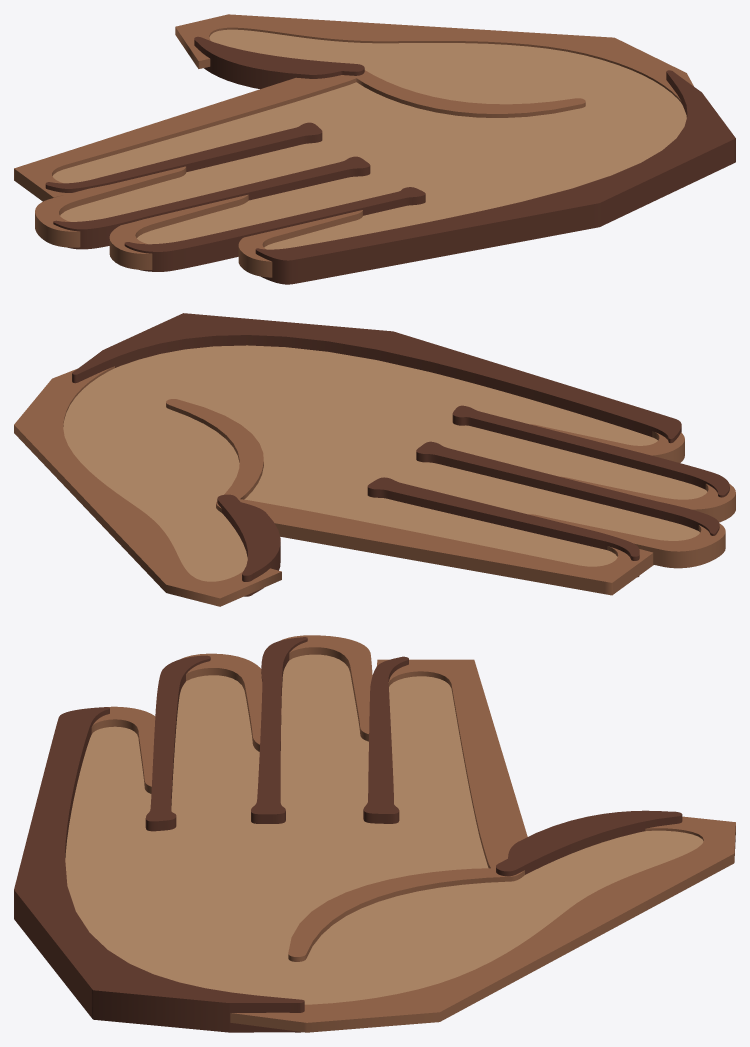
The model's file is emoji_u1faf2_1f3fd.glb.
3 views of the same model, one above another, from view 1: azimuth 30°, elevation 25°; view 2: azimuth 150°, elevation 25°; view 3: azimuth 270°, elevation 25° (orthographic). The views are drawn at different scales.
Parts seen in each view (by area): view 1: emoji_u1faf2_1f3fd; view 2: emoji_u1faf2_1f3fd; view 3: emoji_u1faf2_1f3fd.
Part boxes in pixels (box(x1,y1,x2,y2)): emoji_u1faf2_1f3fd: box(14, 14, 735, 284); emoji_u1faf2_1f3fd: box(14, 313, 735, 606); emoji_u1faf2_1f3fd: box(14, 635, 735, 1032).
Size of the model in its own units: 0.0334 by 0.0012 by 0.0267.
